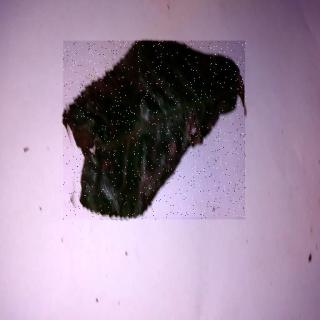Bird Eye Spot: (64, 42, 247, 221)
